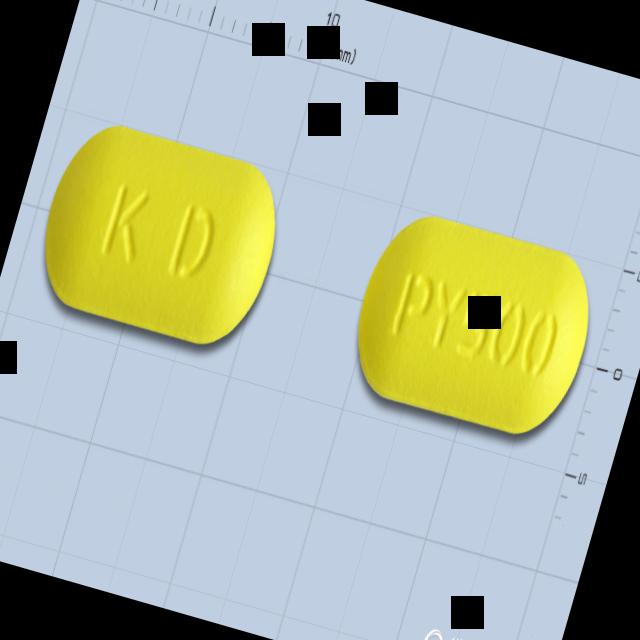Pyrocin Tab: (25, 110, 296, 357), (339, 202, 609, 446)
